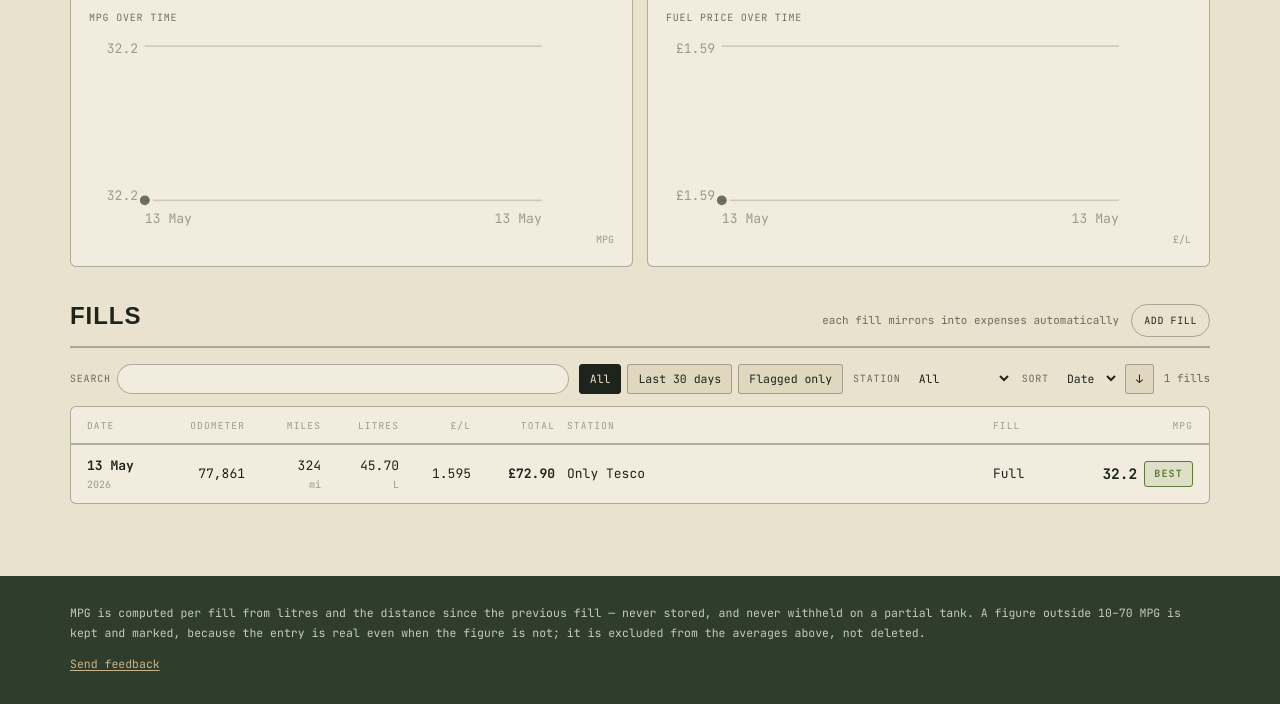
Test: the fills table › says nothing matches rather than showing the empty-log message
The image size is (1280, 704).
(page scrolled)
Toggle Flagged only on a single clean fill → nothing matches.
Click the button "Flagged only" at [791, 379], box [738,364,843,394]
(page scrolled)
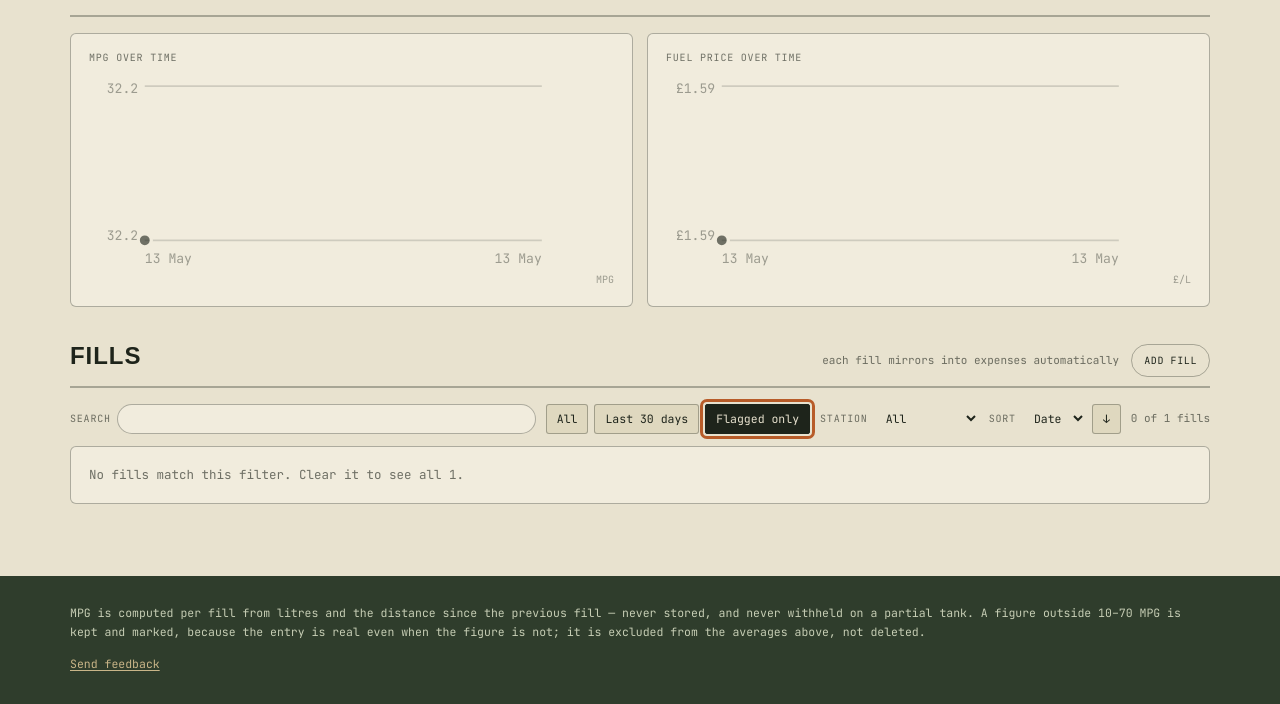
Now the text "No fills match this filter. Clear it to see all 1." is shown, box [89,466,464,483]
